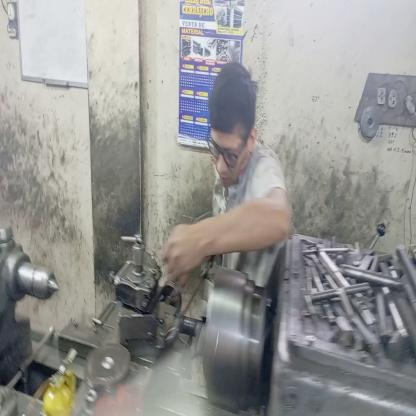lentes: (205, 125, 249, 171)
